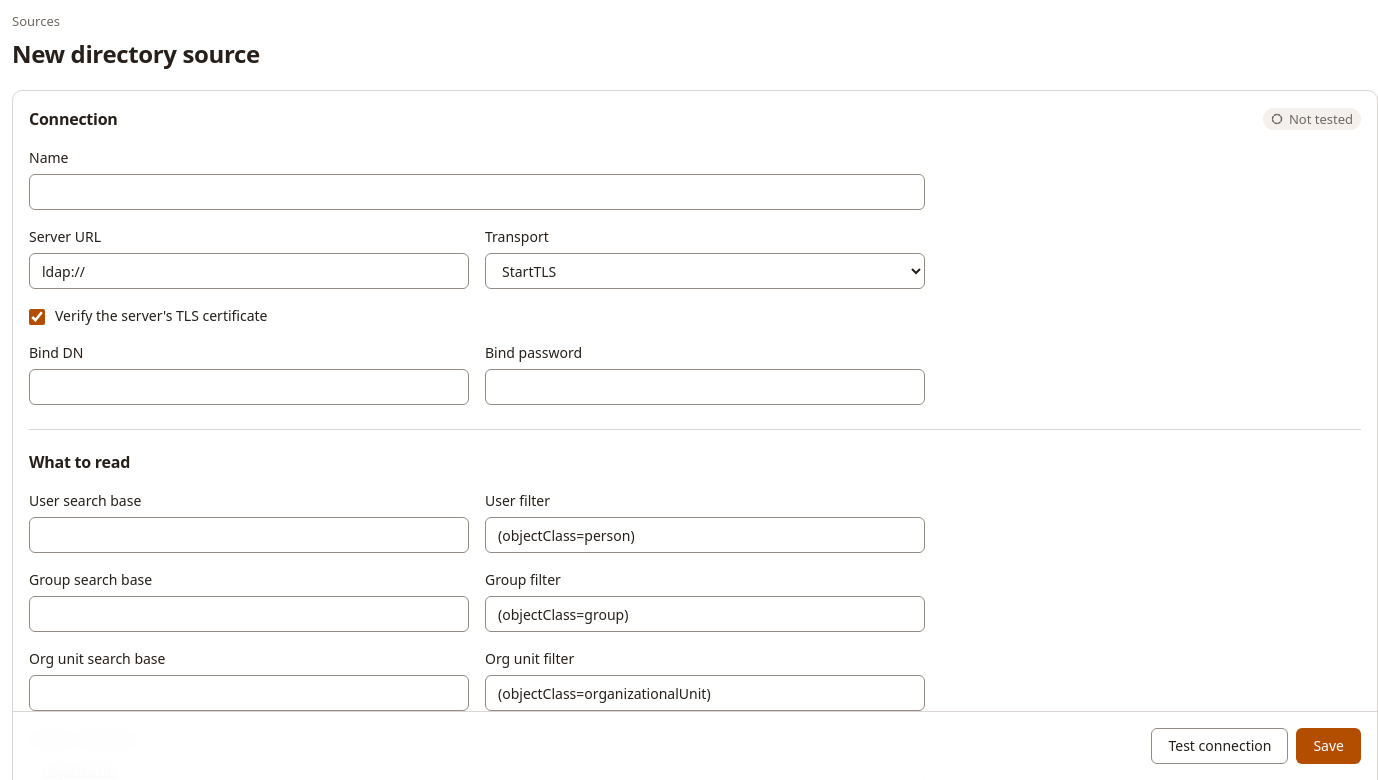
Test case: creating a source › marks the transport when the mode contradicts the URL scheme
Type "Acme" into the field labelled "Name" at (477, 192), box [29,174,925,210]
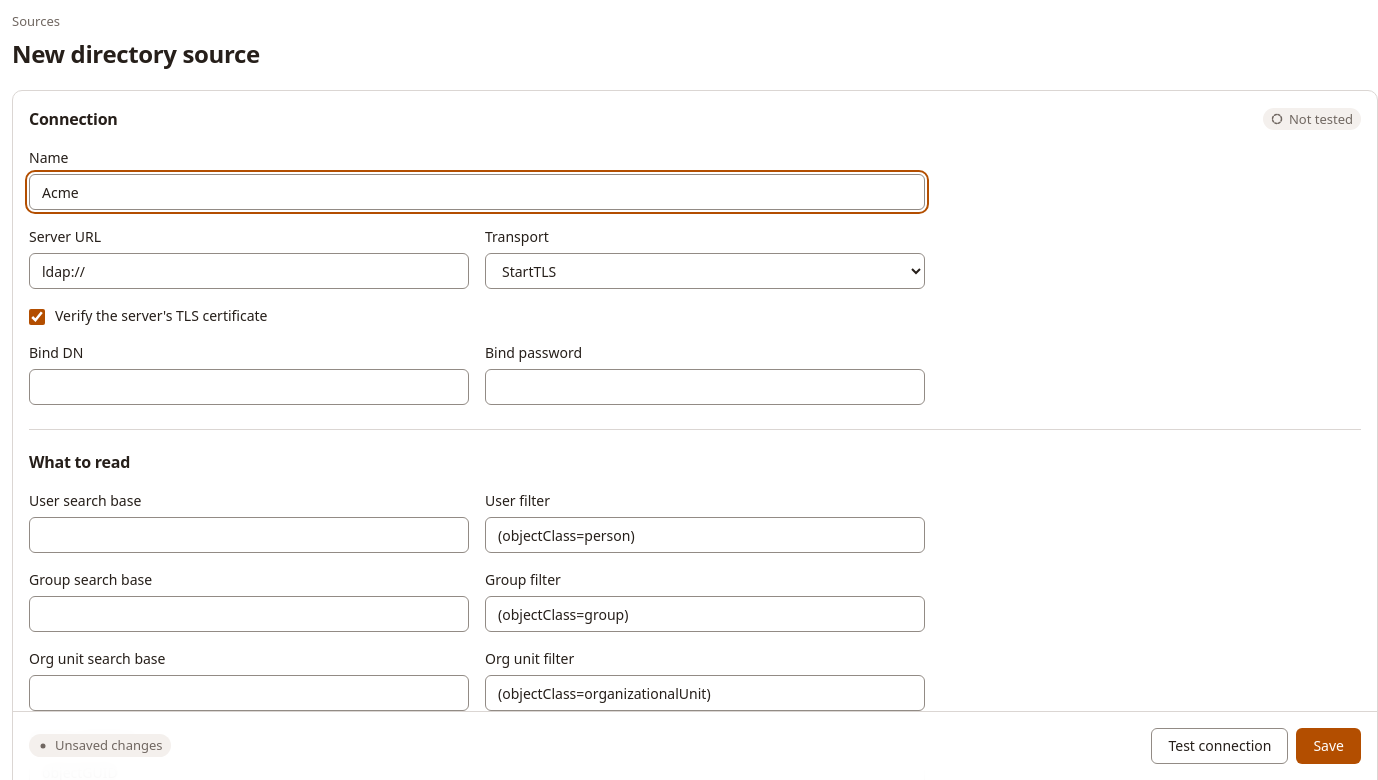
Type "secret" into the password field labelled "Bind password" at (705, 387), box [485,369,925,405]
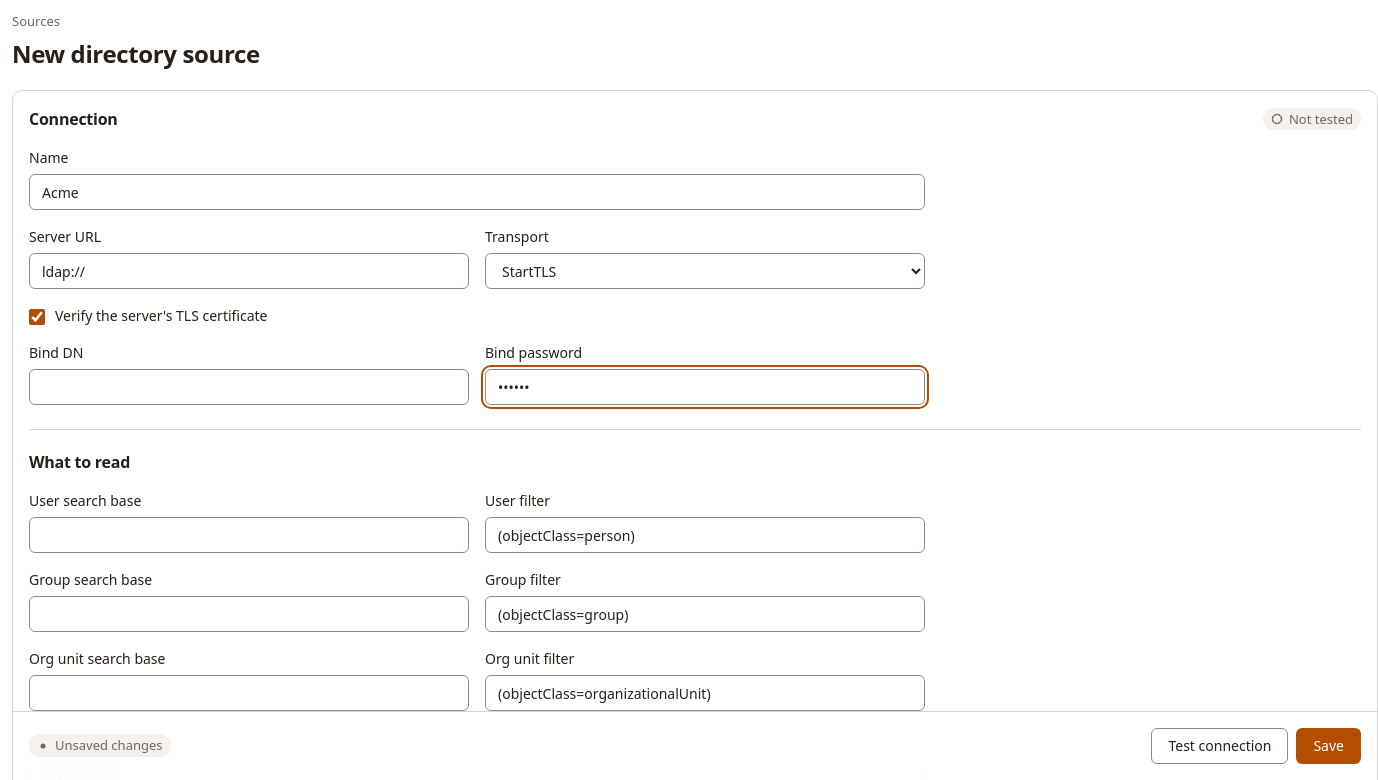
Click the button "Save" at (1329, 746), box [1296,728,1361,764]
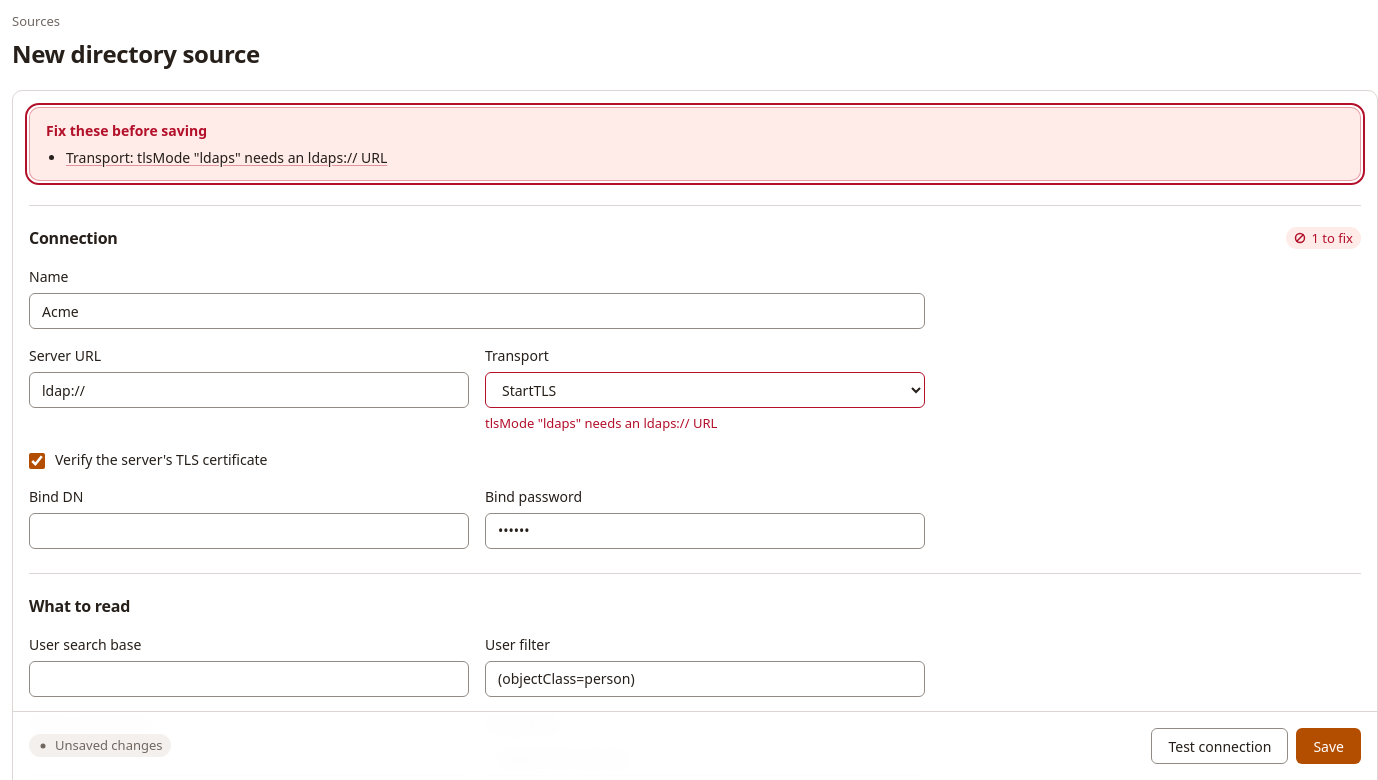
expect the button "Transport: tlsMode \"ldaps\" needs an ldaps:// URL" is shown: met, box [66,147,387,168]
